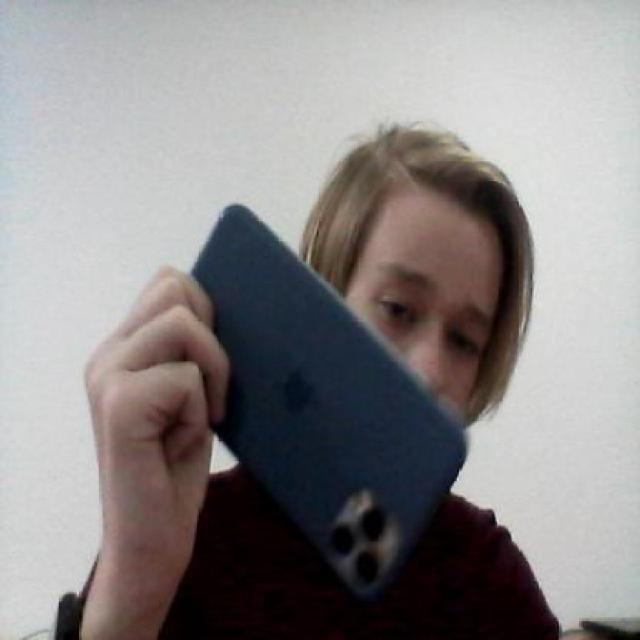mobile: (157, 189, 474, 617)
